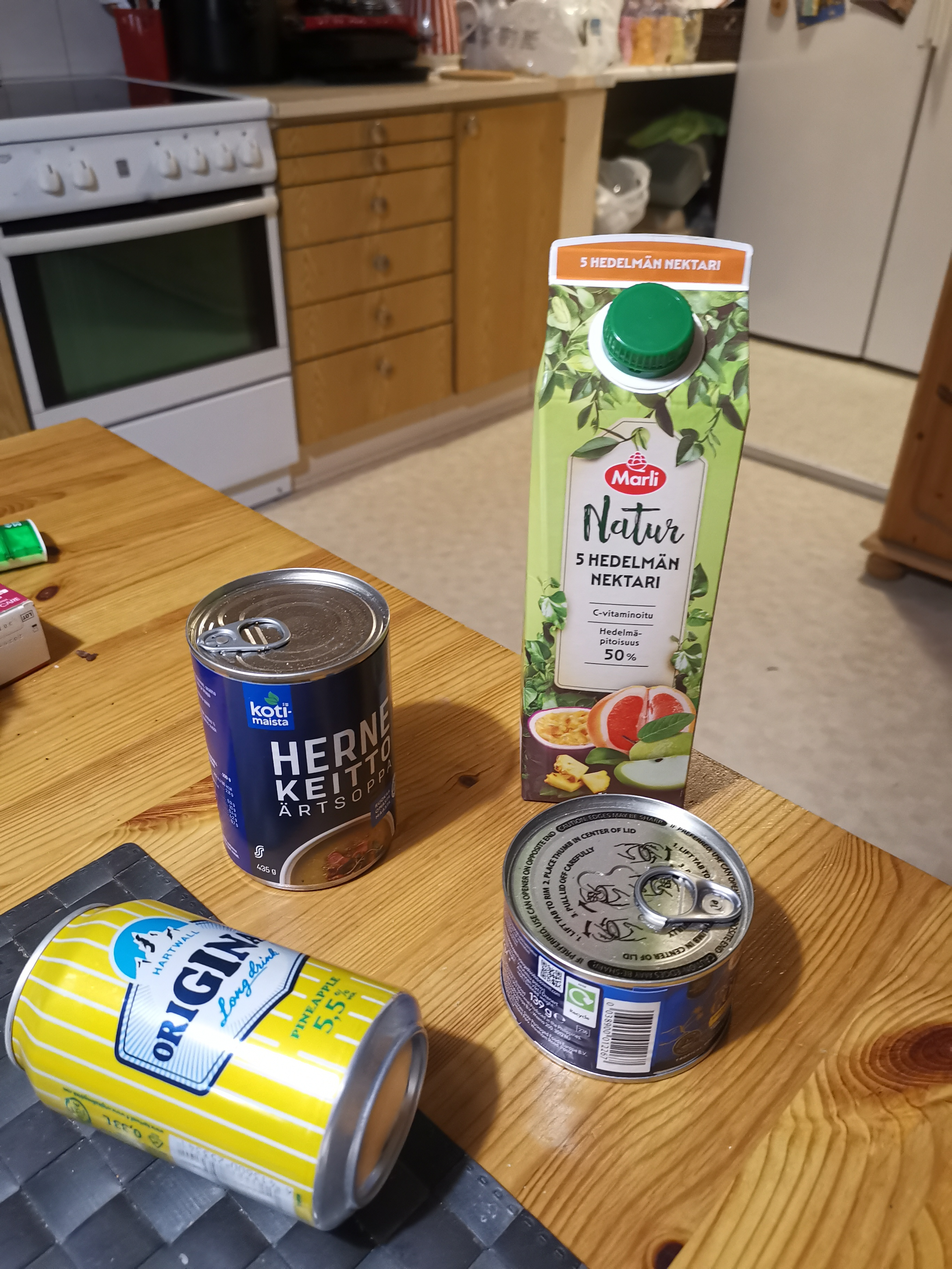Dryckeskartong: (518, 230, 756, 813)
Konservburk: (498, 793, 758, 1086), (182, 565, 400, 896)
Pantburk: (3, 896, 431, 1234)
